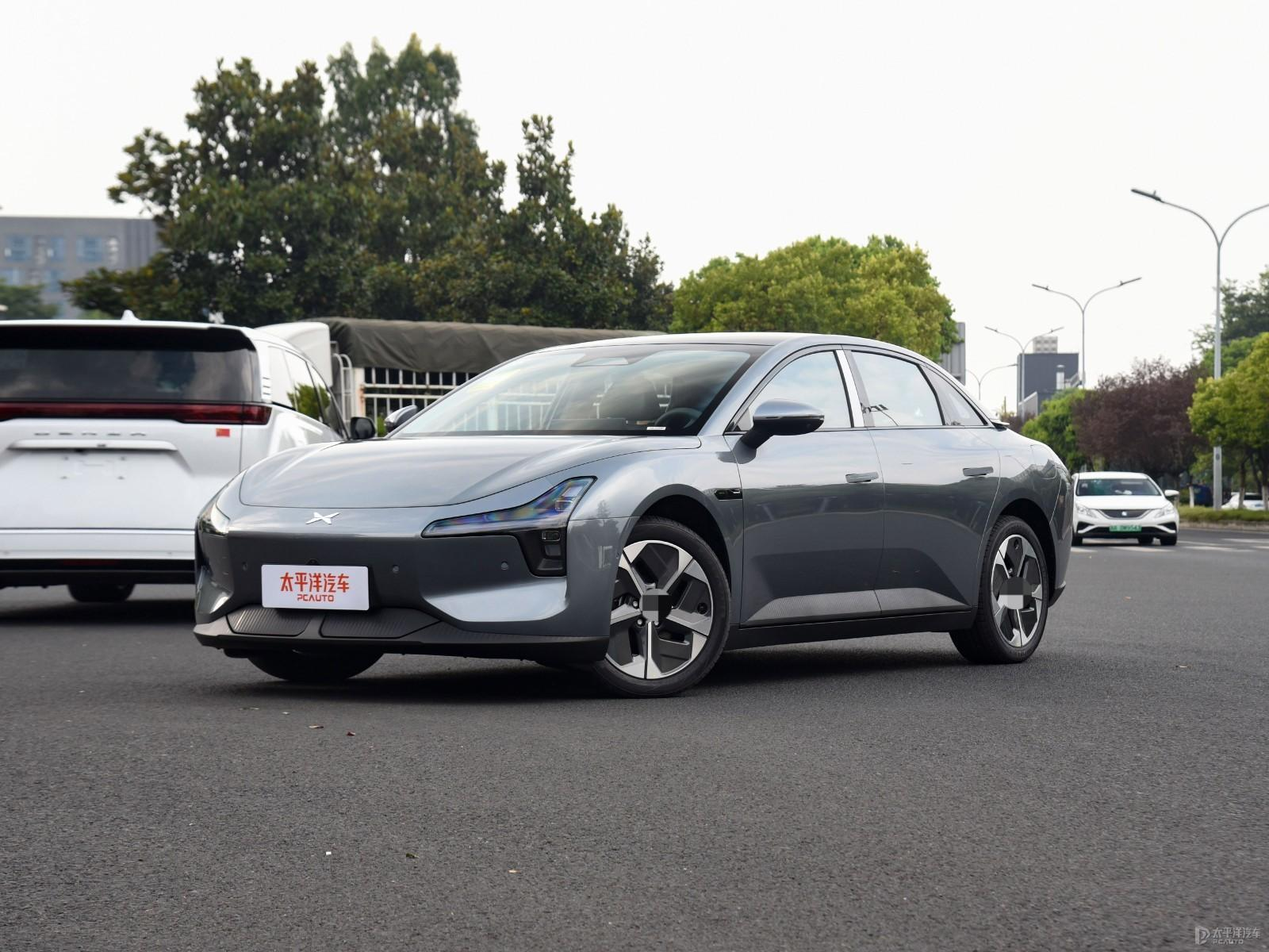XPeng Motors: (306, 512, 340, 526)
